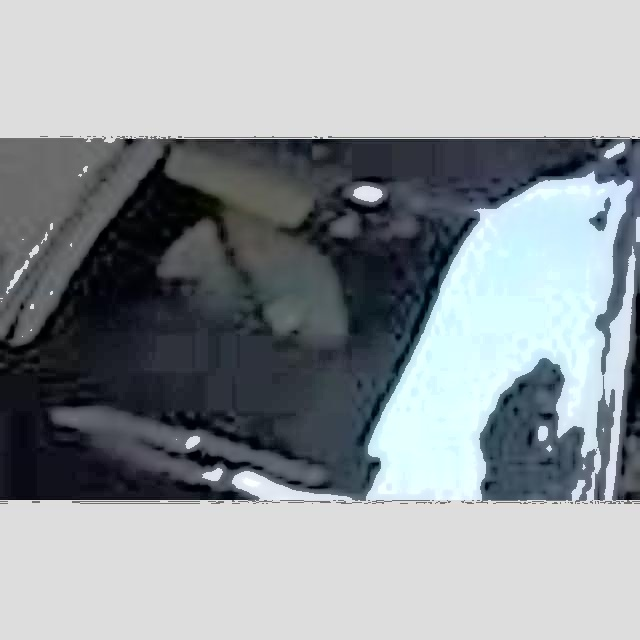pakai: (147, 203, 362, 349)
